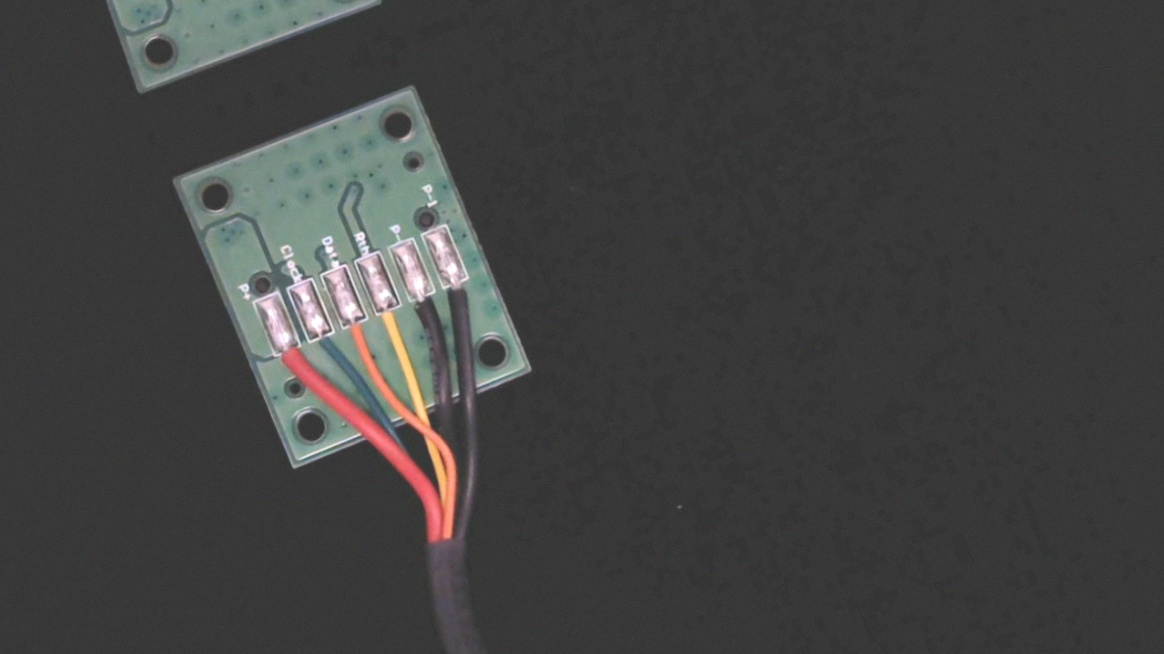Black: (404, 281, 452, 346)
Black1: (438, 266, 489, 336)
Green: (302, 317, 347, 374)
Orange: (334, 304, 384, 371)
Red: (268, 331, 319, 397)
Yellow: (370, 292, 418, 358)
